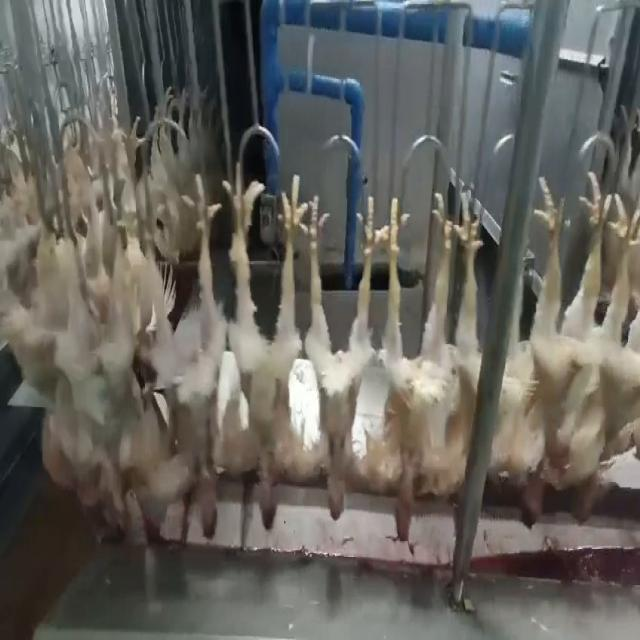chicken: (372, 179, 490, 546), (496, 172, 616, 526), (216, 175, 307, 531), (296, 189, 382, 525), (136, 173, 212, 541), (559, 189, 637, 522)
